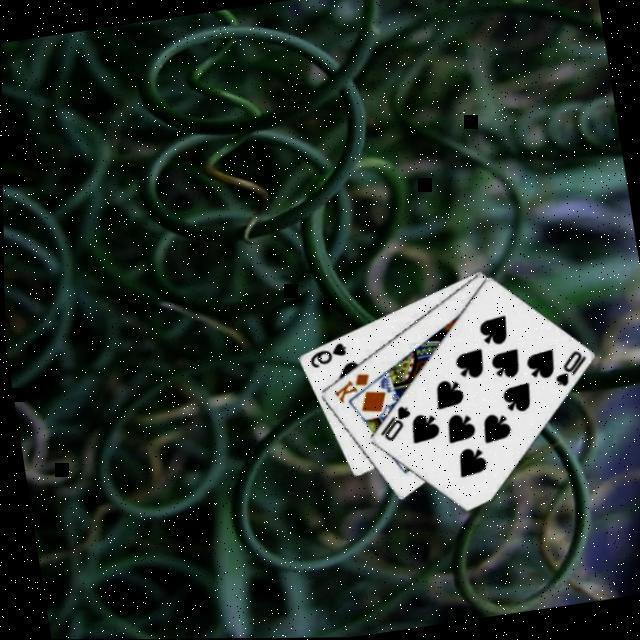10S: (373, 402, 418, 446), (549, 347, 593, 391)
6S: (305, 340, 352, 372)
KD: (329, 370, 375, 408)
